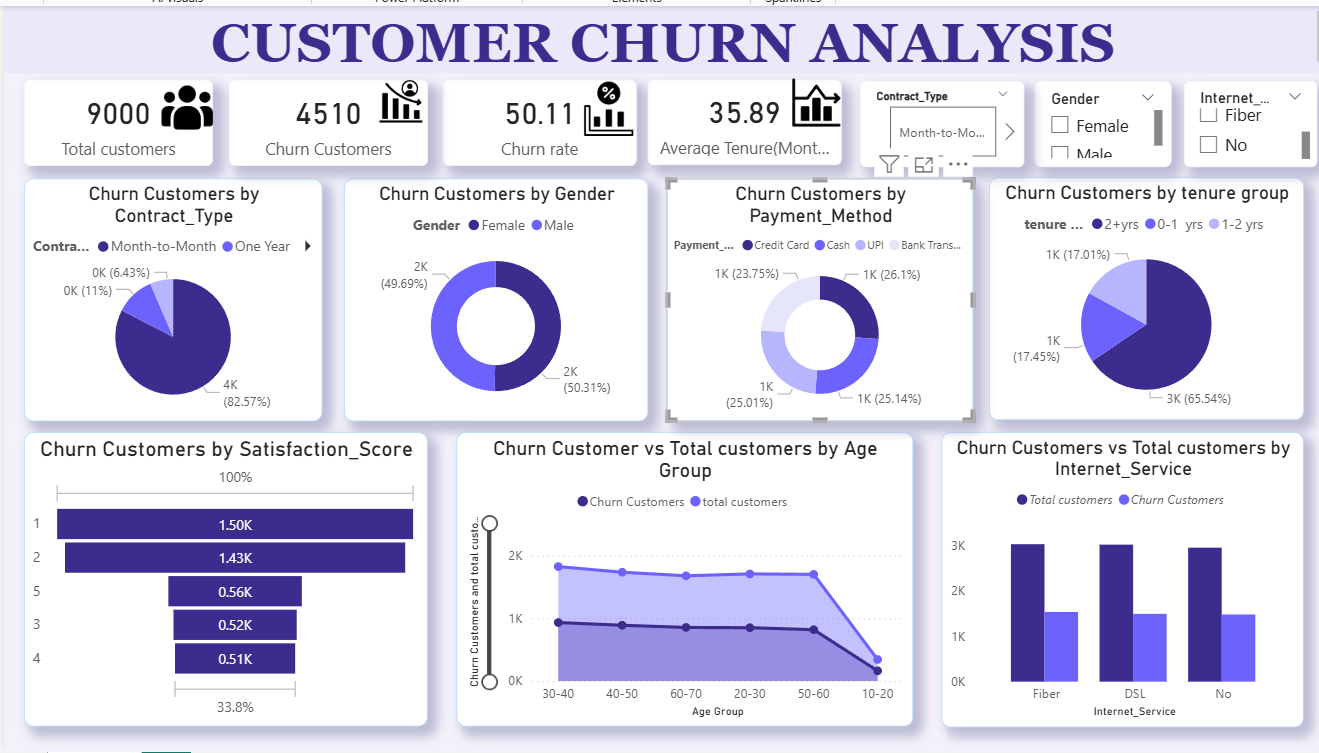

This screenshot's page, from the dashboard's own definition file:
{"tool":"powerbi","page":{"name":"Page 1","canvas":[1280,720],"ordinal":0},"visuals":[{"type":"textbox","box":[0,0,1280.3,64.5],"z":0},{"type":"card","fields":{"Values":["Copy_of_Telco_customer_churn.total customers"]},"box":[19.3,71.2,182.2,83.2],"z":1000},{"type":"card","fields":{"Values":["Copy_of_Telco_customer_churn.churn rate"]},"box":[423.5,71.2,187,83.2],"z":2000},{"type":"donutChart","fields":{"Category":["Copy_of_Telco_customer_churn.Gender"],"Y":["Copy_of_Telco_customer_churn.Churn Customers"]},"box":[328,166,293.7,234.6],"z":3000},{"type":"pieChart","fields":{"Category":["Copy_of_Telco_customer_churn.Contract_Type"],"Y":["Copy_of_Telco_customer_churn.Churn Customers"]},"box":[19.2,166,288.2,234.6],"z":4000},{"type":"donutChart","fields":{"Y":["Copy_of_Telco_customer_churn.Churn Customers"],"Category":["Copy_of_Telco_customer_churn.Payment_Method"]},"box":[639.5,166,296.4,234.6],"z":5000},{"type":"pieChart","fields":{"Y":["Copy_of_Telco_customer_churn.Churn Customers"],"Category":["Copy_of_Telco_customer_churn.tenure group"]},"box":[950.7,165.3,304,234],"z":6000},{"type":"funnel","fields":{"Y":["Copy_of_Telco_customer_churn.Churn Customers"],"Category":["Copy_of_Telco_customer_churn.Satisfaction_Score"]},"box":[19.2,411.7,389.7,284],"z":7000},{"type":"areaChart","title":"Churn Customer vs Total customers by Age Group","fields":{"Category":["Copy_of_Telco_customer_churn.Age Group"],"Y":["Copy_of_Telco_customer_churn.Churn Customers","Copy_of_Telco_customer_churn.total customers"]},"box":[436.4,411.7,440.5,284],"z":8000},{"type":"clusteredColumnChart","title":" Churn Customers vs Total customers by Internet_Service","fields":{"Category":["Copy_of_Telco_customer_churn.Internet_Service"],"Y":["Copy_of_Telco_customer_churn.total customers","Copy_of_Telco_customer_churn.Churn Customers"]},"box":[904.8,411.4,349.9,284.7],"z":9000},{"type":"card","fields":{"Values":["Copy_of_Telco_customer_churn.Churn Customers"]},"box":[217.2,71.2,191.8,83.2],"z":10000},{"type":"card","fields":{"Values":["Avg(Copy_of_Telco_customer_churn.Tenure_Months)"]},"box":[621.3,71.2,187,82],"z":11000},{"type":"slicer","fields":{"Values":["Copy_of_Telco_customer_churn.Gender"]},"box":[994.1,72.4,132.7,83.2],"z":12000},{"type":"slicer","fields":{"Values":["Copy_of_Telco_customer_churn.Internet_Service"]},"box":[1138.9,72.4,129.1,83.2],"z":13000},{"type":"slicer","fields":{"Values":["Copy_of_Telco_customer_churn.Contract_Type"]},"box":[826.4,72.4,158,83.2],"z":14000},{"type":"image","box":[152,71.2,39.8,41],"z":14001},{"type":"image","box":[357.1,70,66.4,42.2],"z":14002},{"type":"image","box":[545.3,71.2,76,43.4],"z":14003},{"type":"image","box":[760.1,70,48.3,42.2],"z":14004}]}

Visuals, with their boxes on the page's 1280x720 design canvas (x1, y1, x2, y2). These are canvas units, not pixel positions in the 1319x753 screenshot, which may show the page scaled, cropped or inside an application window:
textbox: x1=0 y1=0 x2=1280 y2=64
card - Copy_of_Telco_customer_churn.total customers: x1=19 y1=71 x2=202 y2=154
card - Copy_of_Telco_customer_churn.churn rate: x1=424 y1=71 x2=610 y2=154
donutChart - Copy_of_Telco_customer_churn.Gender x Copy_of_Telco_customer_churn.Churn Customers: x1=328 y1=166 x2=622 y2=401
pieChart - Copy_of_Telco_customer_churn.Contract_Type x Copy_of_Telco_customer_churn.Churn Customers: x1=19 y1=166 x2=307 y2=401
donutChart - Copy_of_Telco_customer_churn.Churn Customers x Copy_of_Telco_customer_churn.Payment_Method: x1=640 y1=166 x2=936 y2=401
pieChart - Copy_of_Telco_customer_churn.Churn Customers x Copy_of_Telco_customer_churn.tenure group: x1=951 y1=165 x2=1255 y2=399
funnel - Copy_of_Telco_customer_churn.Churn Customers x Copy_of_Telco_customer_churn.Satisfaction_Score: x1=19 y1=412 x2=409 y2=696
"Churn Customer vs Total customers by Age Group" areaChart: x1=436 y1=412 x2=877 y2=696
" Churn Customers vs Total customers by Internet_Service" clusteredColumnChart: x1=905 y1=411 x2=1255 y2=696
card - Copy_of_Telco_customer_churn.Churn Customers: x1=217 y1=71 x2=409 y2=154
card - Avg(Copy_of_Telco_customer_churn.Tenure_Months): x1=621 y1=71 x2=808 y2=153
slicer - Copy_of_Telco_customer_churn.Gender: x1=994 y1=72 x2=1127 y2=156
slicer - Copy_of_Telco_customer_churn.Internet_Service: x1=1139 y1=72 x2=1268 y2=156
slicer - Copy_of_Telco_customer_churn.Contract_Type: x1=826 y1=72 x2=984 y2=156
image: x1=152 y1=71 x2=192 y2=112
image: x1=357 y1=70 x2=424 y2=112
image: x1=545 y1=71 x2=621 y2=115
image: x1=760 y1=70 x2=808 y2=112
